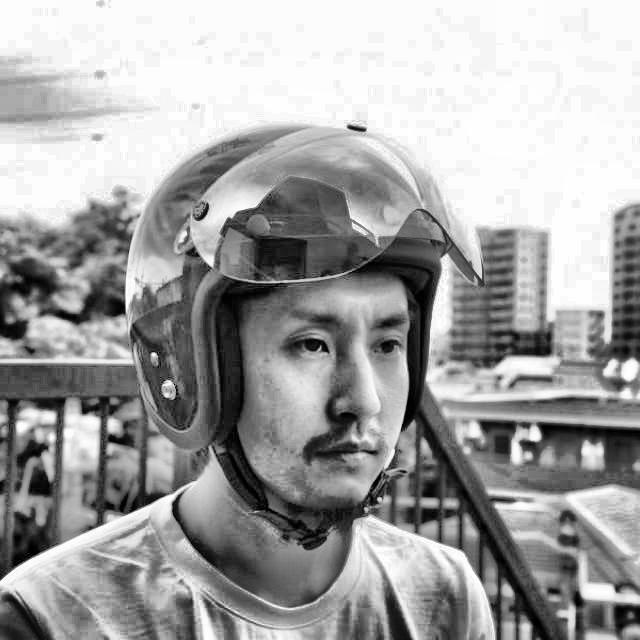Helmet: (111, 107, 492, 558)
